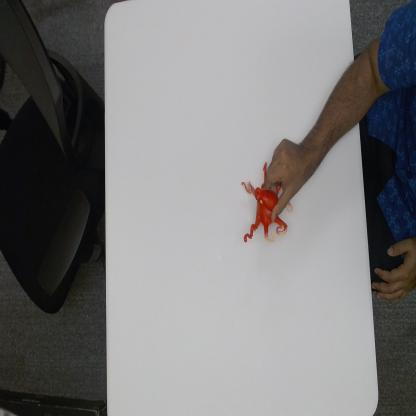Arm: (316, 51, 363, 162)
Hand: (263, 134, 315, 225)
Octopus: (240, 157, 294, 246)
